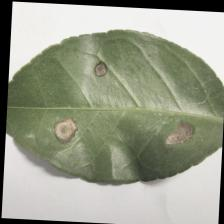canker: (50, 55, 198, 152)
